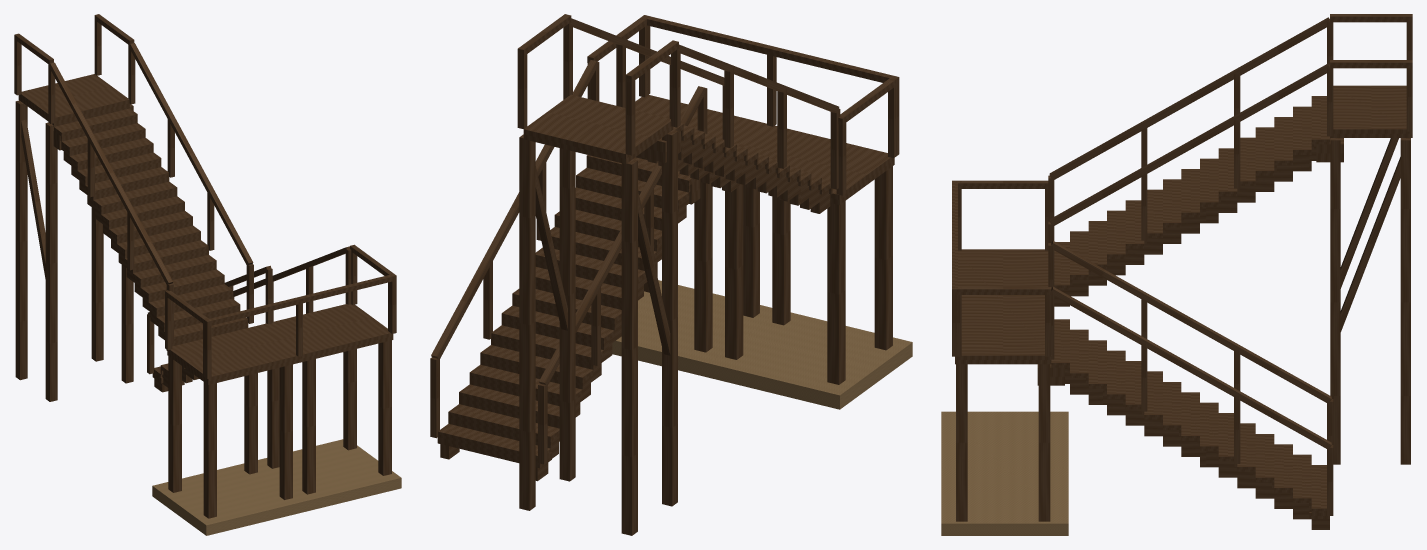
File: yong-upper-access-C-LOD2.glb
The picture shows the model from 3 angles, left to right: view 1: azimuth 30°, elevation 25°; view 2: azimuth 150°, elevation 25°; view 3: azimuth 270°, elevation 25°; orthographic projection. The views are drawn at different scales.
Visible parts, largest first — view 1: yong-upper-access-C-timber-access-C, yong-upper-access-C-earth-access-C; view 2: yong-upper-access-C-timber-access-C, yong-upper-access-C-earth-access-C; view 3: yong-upper-access-C-timber-access-C, yong-upper-access-C-earth-access-C.
Boxes of the visible parts, bbox=[...] form: yong-upper-access-C-timber-access-C: bbox=[14, 14, 396, 518]; yong-upper-access-C-earth-access-C: bbox=[152, 439, 401, 535]; yong-upper-access-C-timber-access-C: bbox=[430, 14, 899, 535]; yong-upper-access-C-earth-access-C: bbox=[612, 280, 912, 409]; yong-upper-access-C-timber-access-C: bbox=[952, 14, 1412, 529]; yong-upper-access-C-earth-access-C: bbox=[941, 411, 1068, 535].
Size of the model in its own units: 3.85 by 6.65 by 6.85.
Materials: 2 (2 with a texture image).
